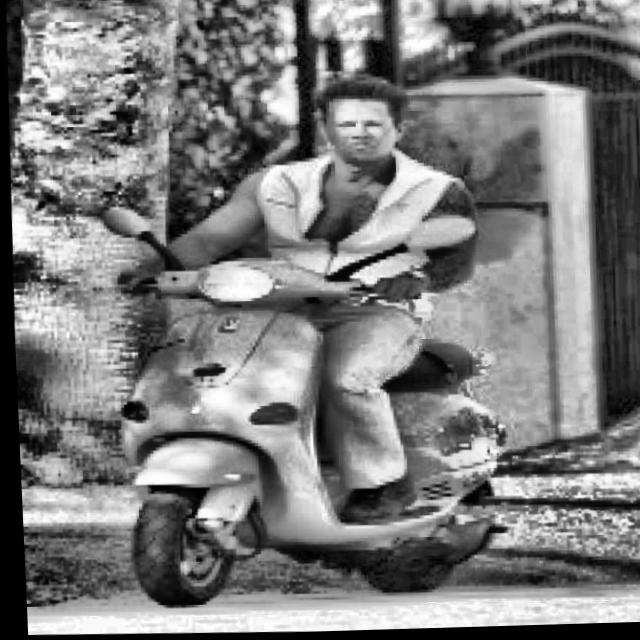motorcycle: (52, 195, 506, 621)
